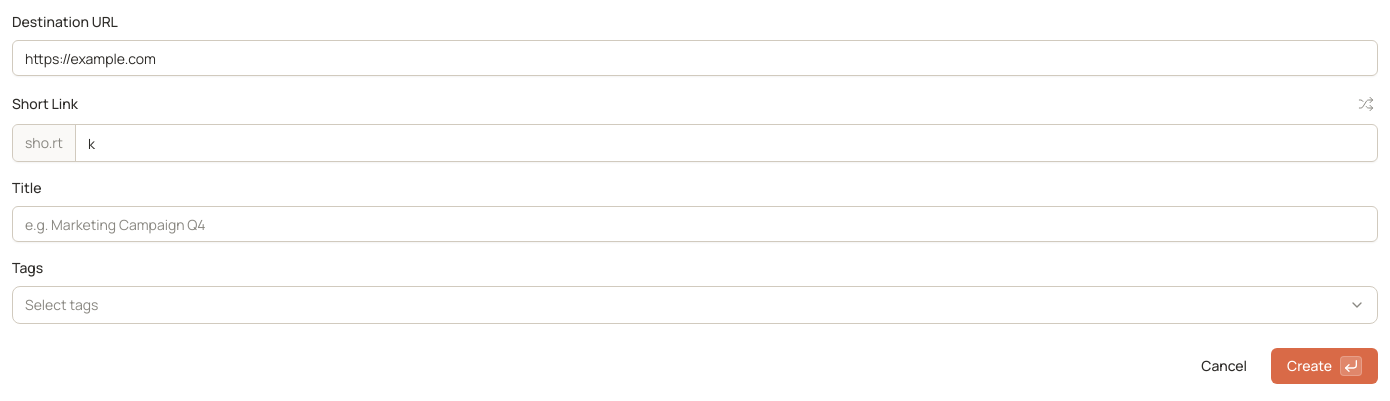
it: LinkFormFields › submission › shows the submitting label and disables both buttons while the request is pending
Click the button "Create".
click(1325, 366)  # box top-left (1271, 348), bottom-right (1378, 384)
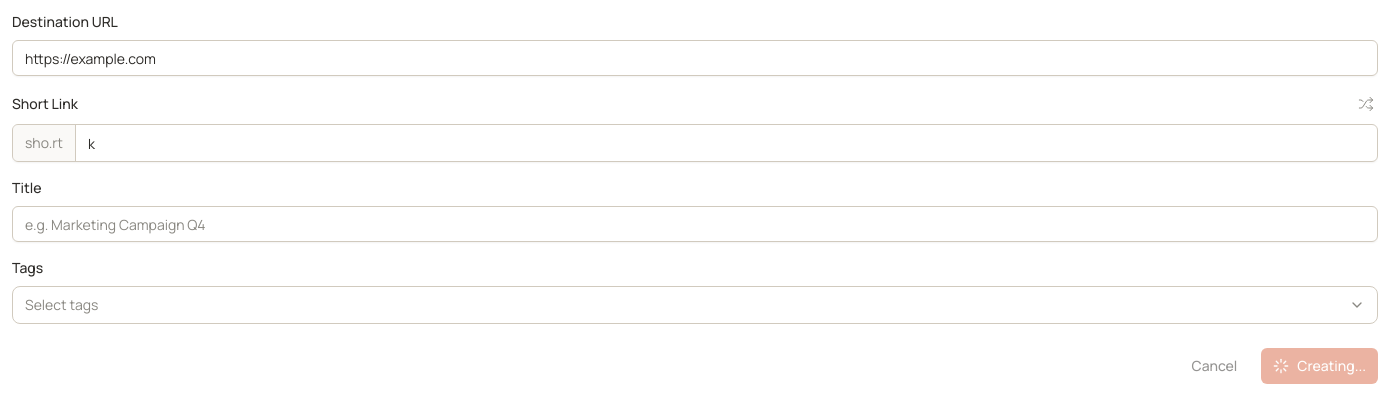
Expected: the button "Creating..." is disabled, top-left (1261, 348), bottom-right (1378, 384)
Expected: the button "Cancel" is disabled, top-left (1176, 348), bottom-right (1253, 384)
